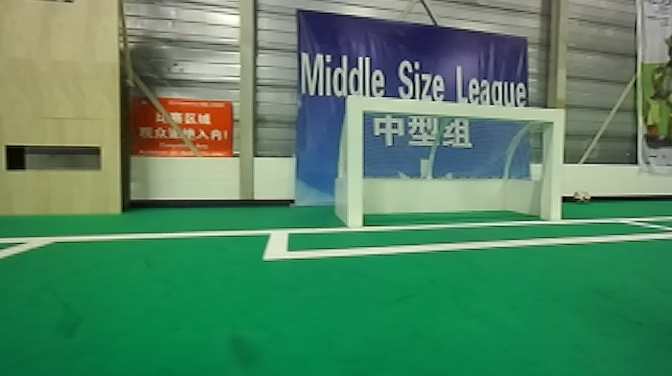ball: (568, 177, 601, 209)
goalpost: (343, 81, 371, 230), (539, 100, 569, 234)
